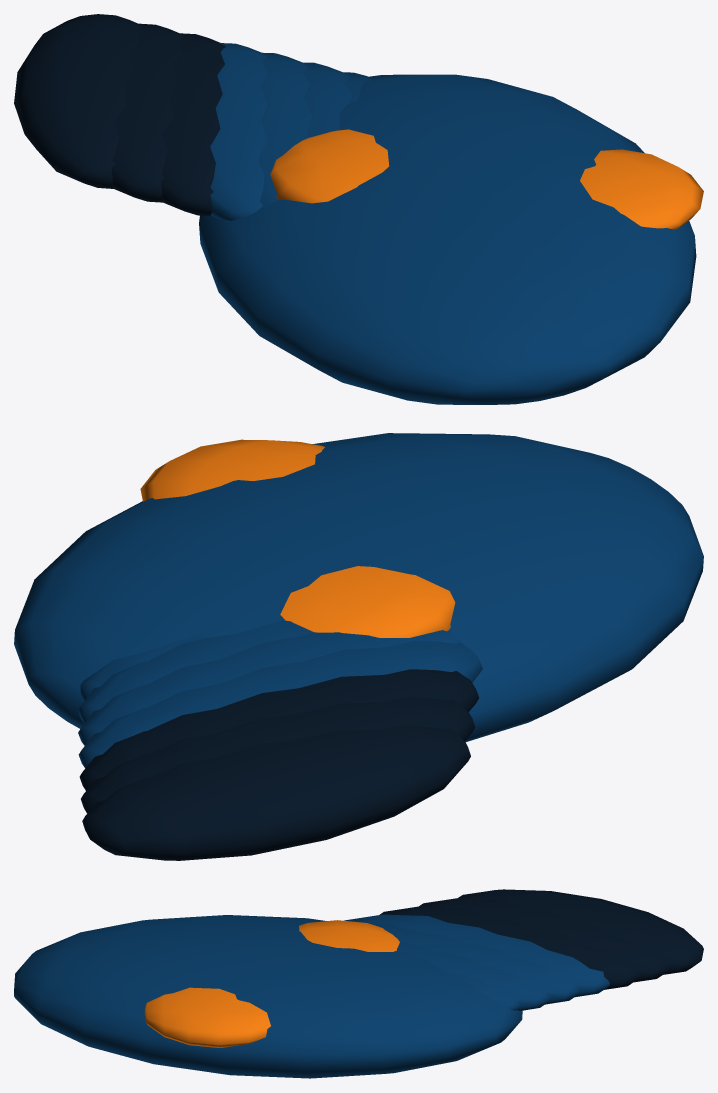
Rendered from SM_LT_Parrot_Wing_L.obj.
3 views of the same model, one above another, from view 1: azimuth 30°, elevation 25°; view 2: azimuth 150°, elevation 25°; view 3: azimuth 270°, elevation 25° (orthographic). The views are drawn at different scales.
Visible parts, largest first — view 1: SM_LT_Parrot_Wing_L; view 2: SM_LT_Parrot_Wing_L; view 3: SM_LT_Parrot_Wing_L.
Boxes of the visible parts, bbox=[...] form: SM_LT_Parrot_Wing_L: bbox=[14, 14, 703, 404]; SM_LT_Parrot_Wing_L: bbox=[14, 433, 703, 860]; SM_LT_Parrot_Wing_L: bbox=[14, 889, 703, 1078].
Bounding box in the file's own units: 23.74 × 6.51 × 42.2.
